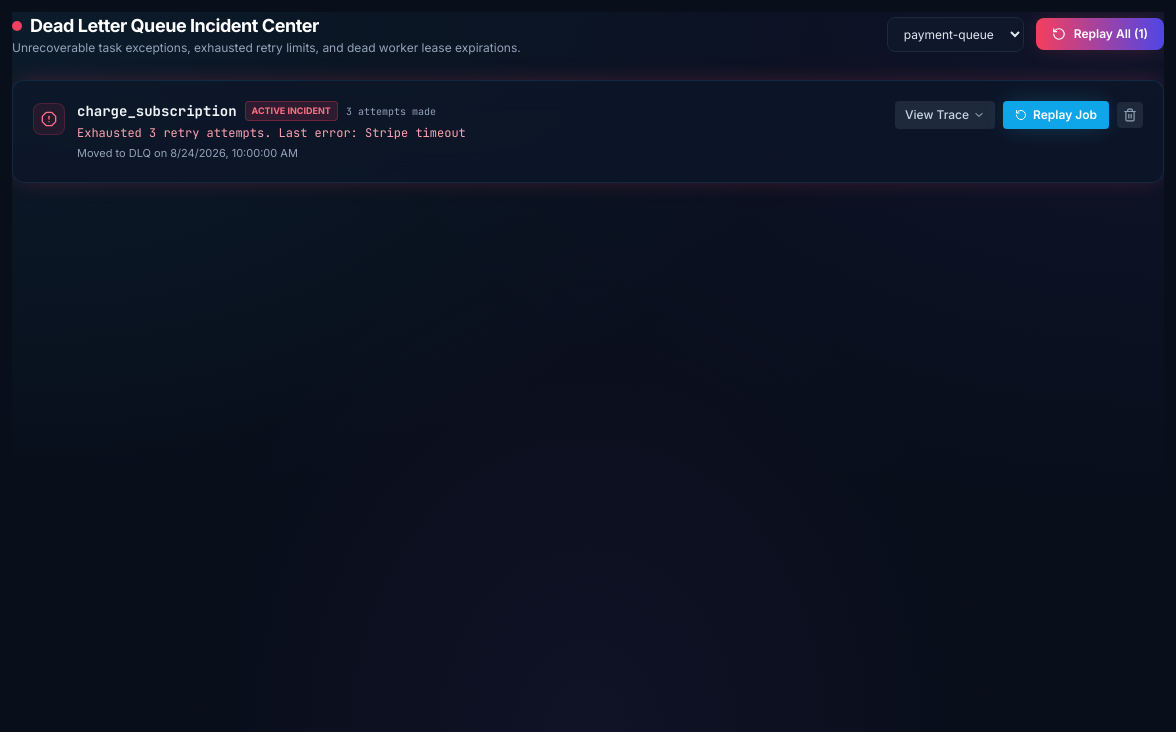
Test: DLQView Component › renders dead letter queue jobs and reveals AI diagnostics on expanding trace
The image size is (1176, 732).
Check: the text "charge_subscription" is shown, box [77,101,237,121]
Check: the text "Exhausted 3 retry attempts. Last error: Stripe timeout" is shown, box [77,125,466,141]
# Click View Trace to open accordion
Click the button "View Trace" at (945, 115), box [895,101,995,129]
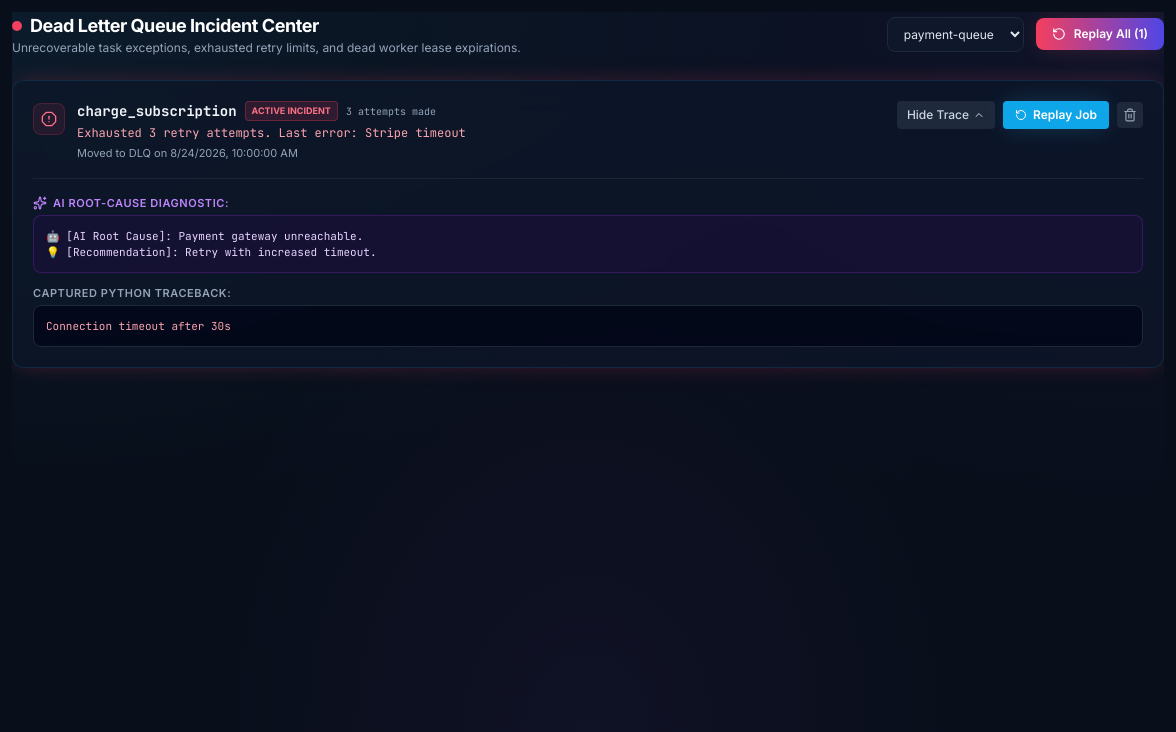
Check: the text "Retry with increased timeout" is shown, box [46,228,376,258]
